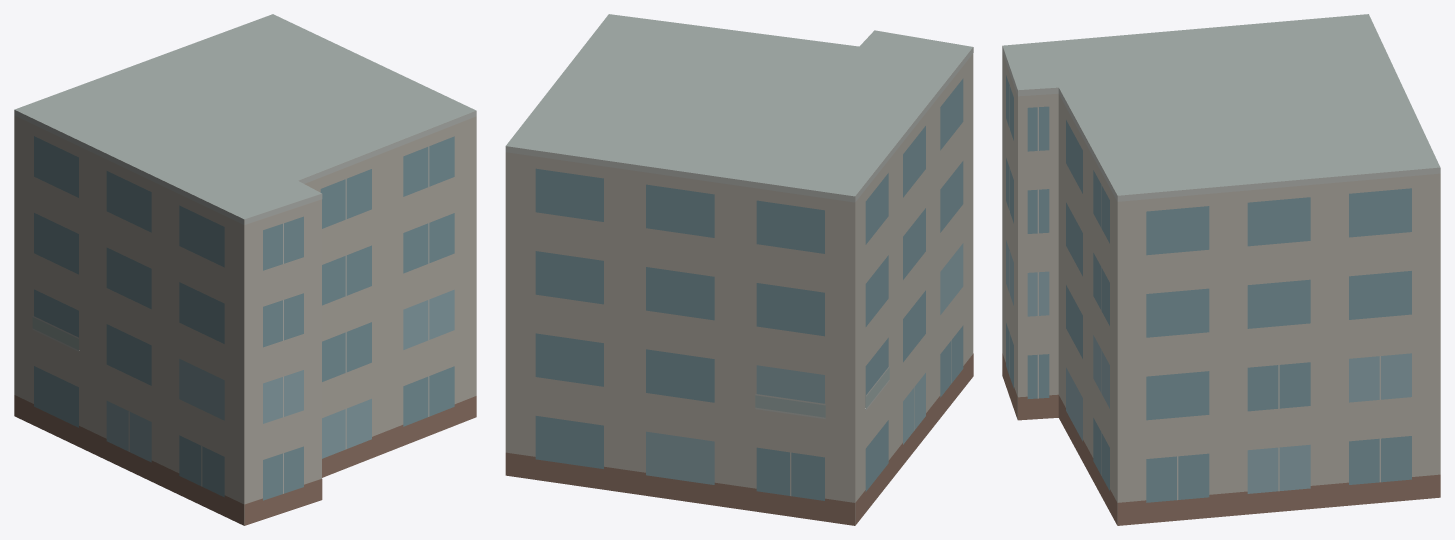
The model's file is survey-upis-32969899.glb.
3 renders of one model, left to right at view 1: azimuth 30°, elevation 25°; view 2: azimuth 150°, elevation 25°; view 3: azimuth 270°, elevation 25°, orthographic. The views are drawn at different scales.
Visible parts, largest first — view 1: survey-upis-32969899.tmp; view 2: survey-upis-32969899.tmp; view 3: survey-upis-32969899.tmp.
Part boxes in pixels (x1,y1,x2,y2): survey-upis-32969899.tmp: (14, 14, 476, 525); survey-upis-32969899.tmp: (505, 14, 973, 525); survey-upis-32969899.tmp: (1002, 14, 1440, 525).
Size of the model in its own units: 15.6 by 13.2 by 15.88.
